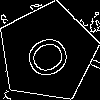O: (22, 27, 81, 83)
